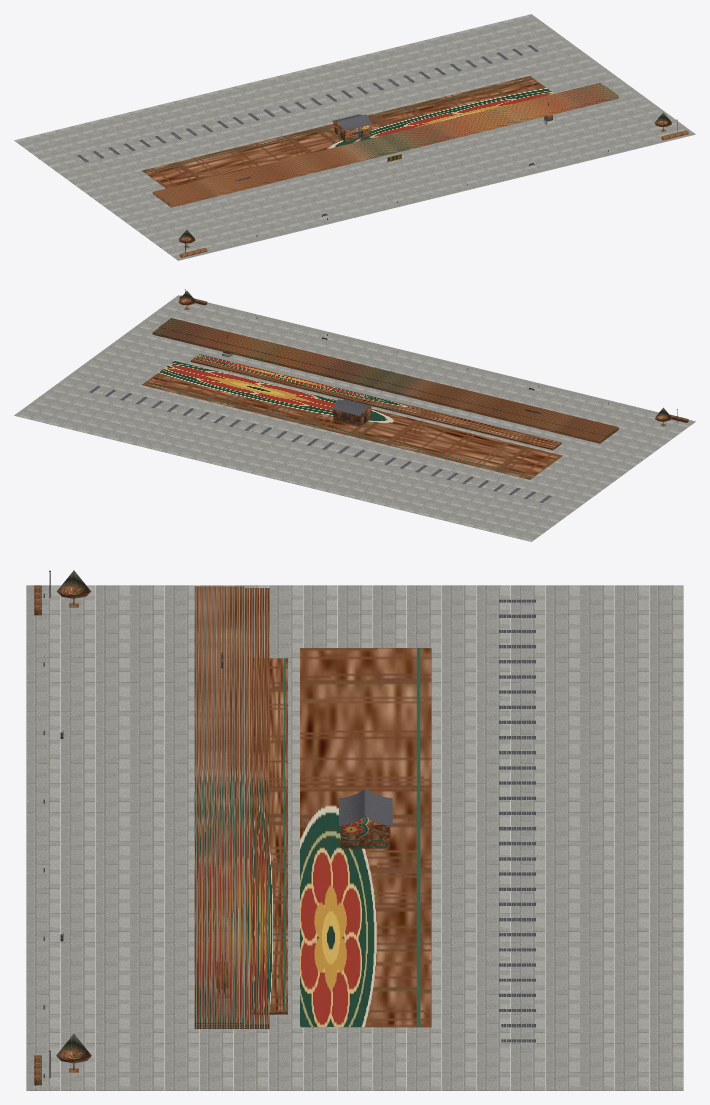
3 views of the same model, one above another, from view 1: azimuth 30°, elevation 25°; view 2: azimuth 150°, elevation 25°; view 3: azimuth 270°, elevation 25° (orthographic). The views are drawn at different scales.
Visible parts, largest first — view 1: 11710_01_05798_039_01__plinth_ground_base, 11710_01_05798_039_02__mass_body_facade, 11710_01_05798_039_03__roof_deck_structure, 11710_01_05798_039_06__landscape_greenery; view 2: 11710_01_05798_039_01__plinth_ground_base, 11710_01_05798_039_02__mass_body_facade, 11710_01_05798_039_03__roof_deck_structure, 11710_01_05798_039_06__landscape_greenery; view 3: 11710_01_05798_039_01__plinth_ground_base, 11710_01_05798_039_02__mass_body_facade, 11710_01_05798_039_03__roof_deck_structure, 11710_01_05798_039_06__landscape_greenery.
Part boxes in pixels (x1,y1,x2,y2): 11710_01_05798_039_01__plinth_ground_base: (14,14,695,260); 11710_01_05798_039_02__mass_body_facade: (142,76,618,207); 11710_01_05798_039_03__roof_deck_structure: (77,45,538,162); 11710_01_05798_039_06__landscape_greenery: (179,112,688,257); 11710_01_05798_039_01__plinth_ground_base: (14,295,695,541); 11710_01_05798_039_02__mass_body_facade: (142,318,618,479); 11710_01_05798_039_03__roof_deck_structure: (89,386,551,502); 11710_01_05798_039_06__landscape_greenery: (178,291,688,426); 11710_01_05798_039_01__plinth_ground_base: (26,585,683,1090); 11710_01_05798_039_02__mass_body_facade: (194,586,431,1028); 11710_01_05798_039_03__roof_deck_structure: (339,599,535,1042); 11710_01_05798_039_06__landscape_greenery: (34,570,91,1085).
Size of the model in its own units: 200 by 7.4 by 110.
Materials: 7 (7 with a texture image).
